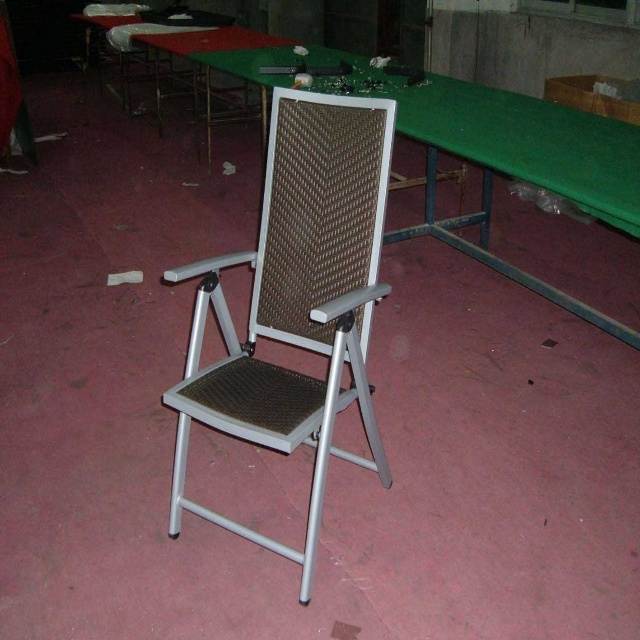obstacle: (164, 87, 396, 604)
